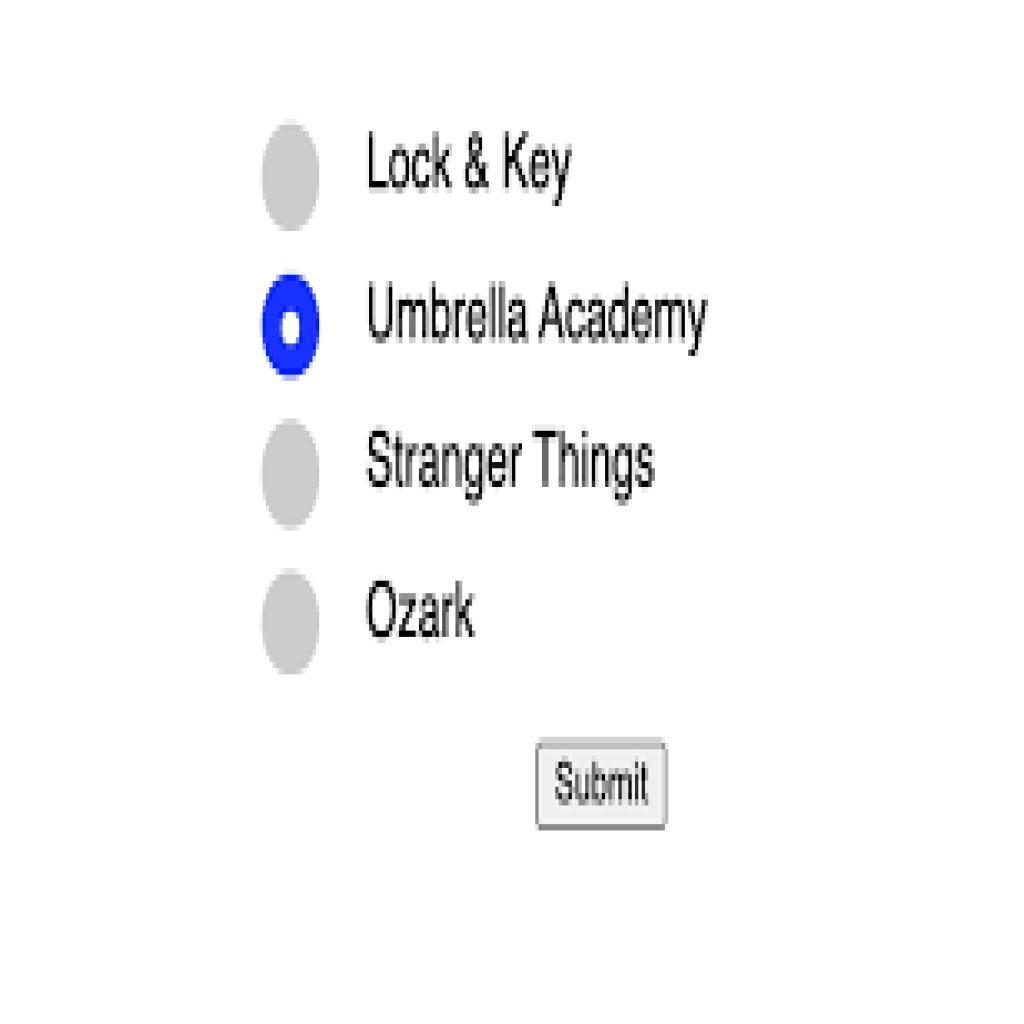button: (535, 741, 668, 828)
radio: (256, 273, 327, 389), (256, 121, 324, 232), (261, 420, 324, 535), (258, 567, 324, 674)
